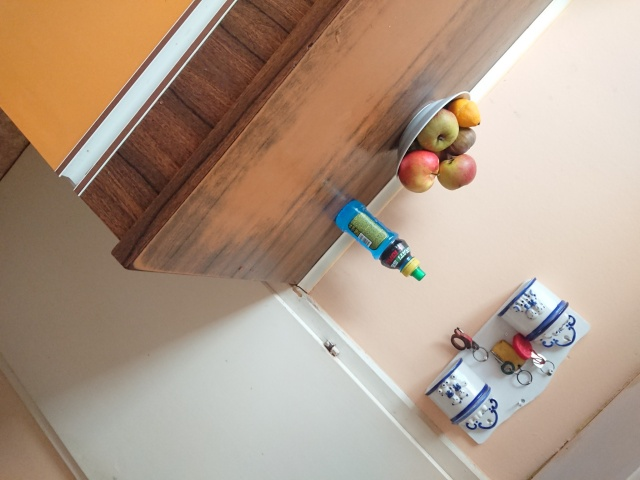Vindi Iso Sport Forest Strawberries 500mL: (333, 197, 425, 282)
